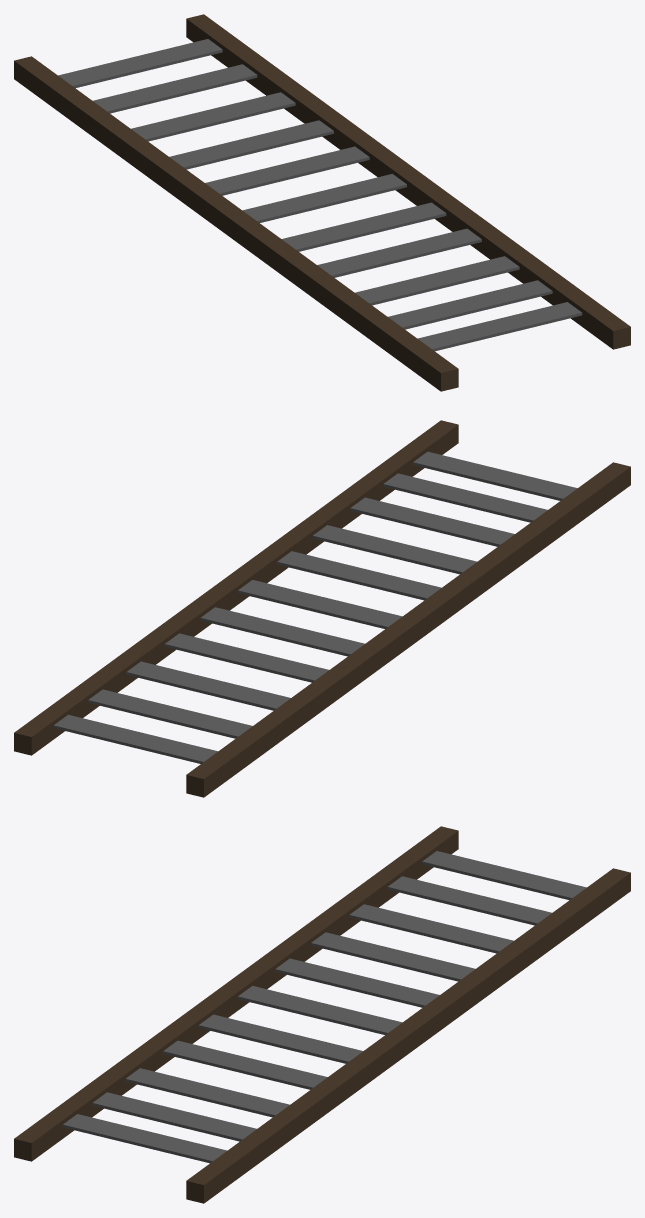
The model's file is Cart rails.fbx.
The picture shows the model from 3 angles, top to bottom: view 1: azimuth 30°, elevation 25°; view 2: azimuth 150°, elevation 25°; view 3: azimuth 330°, elevation 25°; orthographic projection.
Parts seen in each view (by area): view 1: polySurface1670; view 2: polySurface1670; view 3: polySurface1670.
Boxes of the visible parts, left/top/right/bottom form: polySurface1670: left=14, top=14, right=630, bottom=391; polySurface1670: left=14, top=420, right=630, bottom=797; polySurface1670: left=14, top=826, right=630, bottom=1203.
Bounding box in the file's own units: 7.78 × 0.7259 × 30.29.
